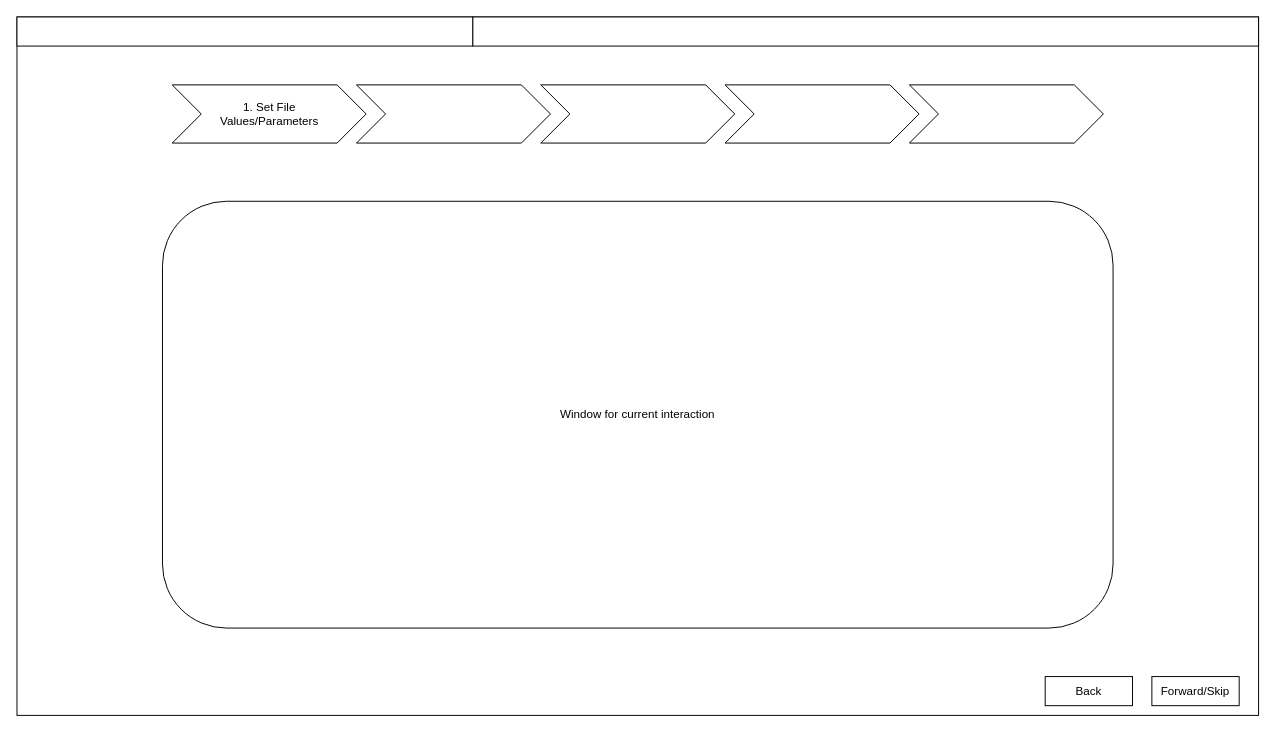
This 1276x732 diagram has some shape labels left out. Each missing label, with the box of its shape:
Free for Text: (472, 16, 1259, 46)
MENÜ: (16, 16, 473, 46)
